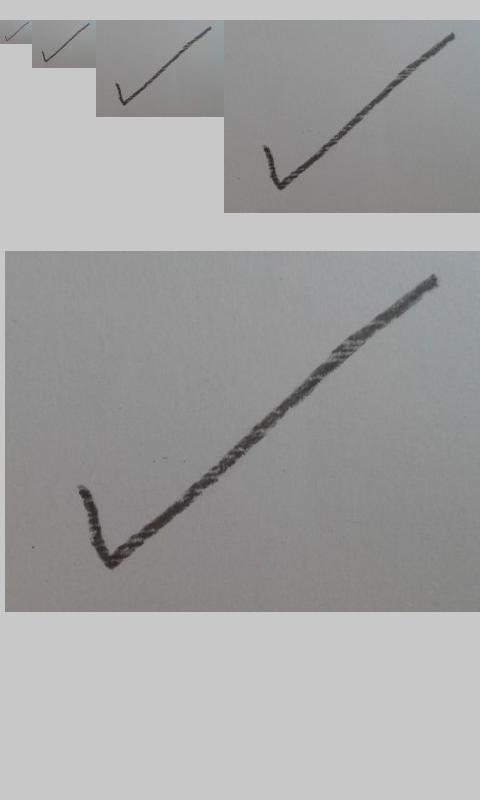check_box: (78, 276, 440, 570), (261, 32, 456, 189), (115, 26, 212, 106), (41, 23, 90, 63), (4, 22, 29, 42)
